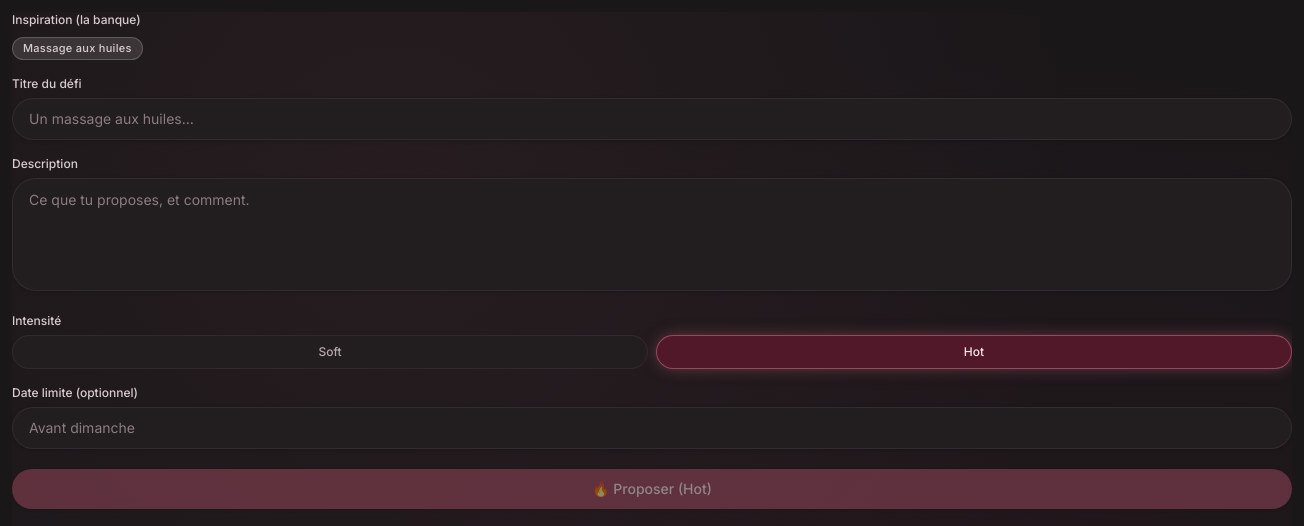
Test: ChallengeComposer › clic sur une inspiration pré-remplit le titre et la description
Click the button "Massage aux huiles" at (77, 47), box [12,34,143,60]
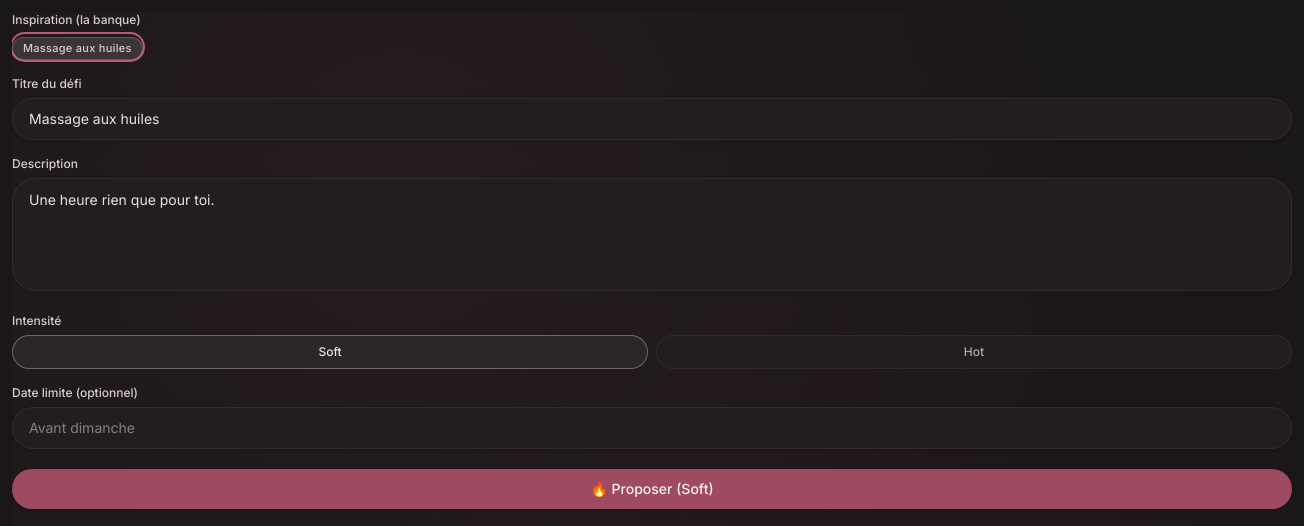
Expected: the field labelled "Titre du défi" holds "Massage aux huiles", [12,98,1292,140]
Expected: the text box labelled "Description" holds "Une heure rien que pour toi.", [12,178,1292,290]
